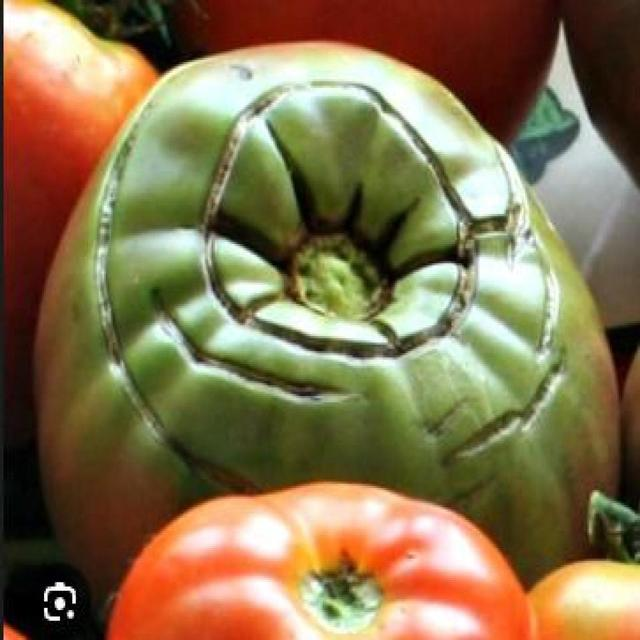Cracking Fruit: (134, 72, 330, 306)
